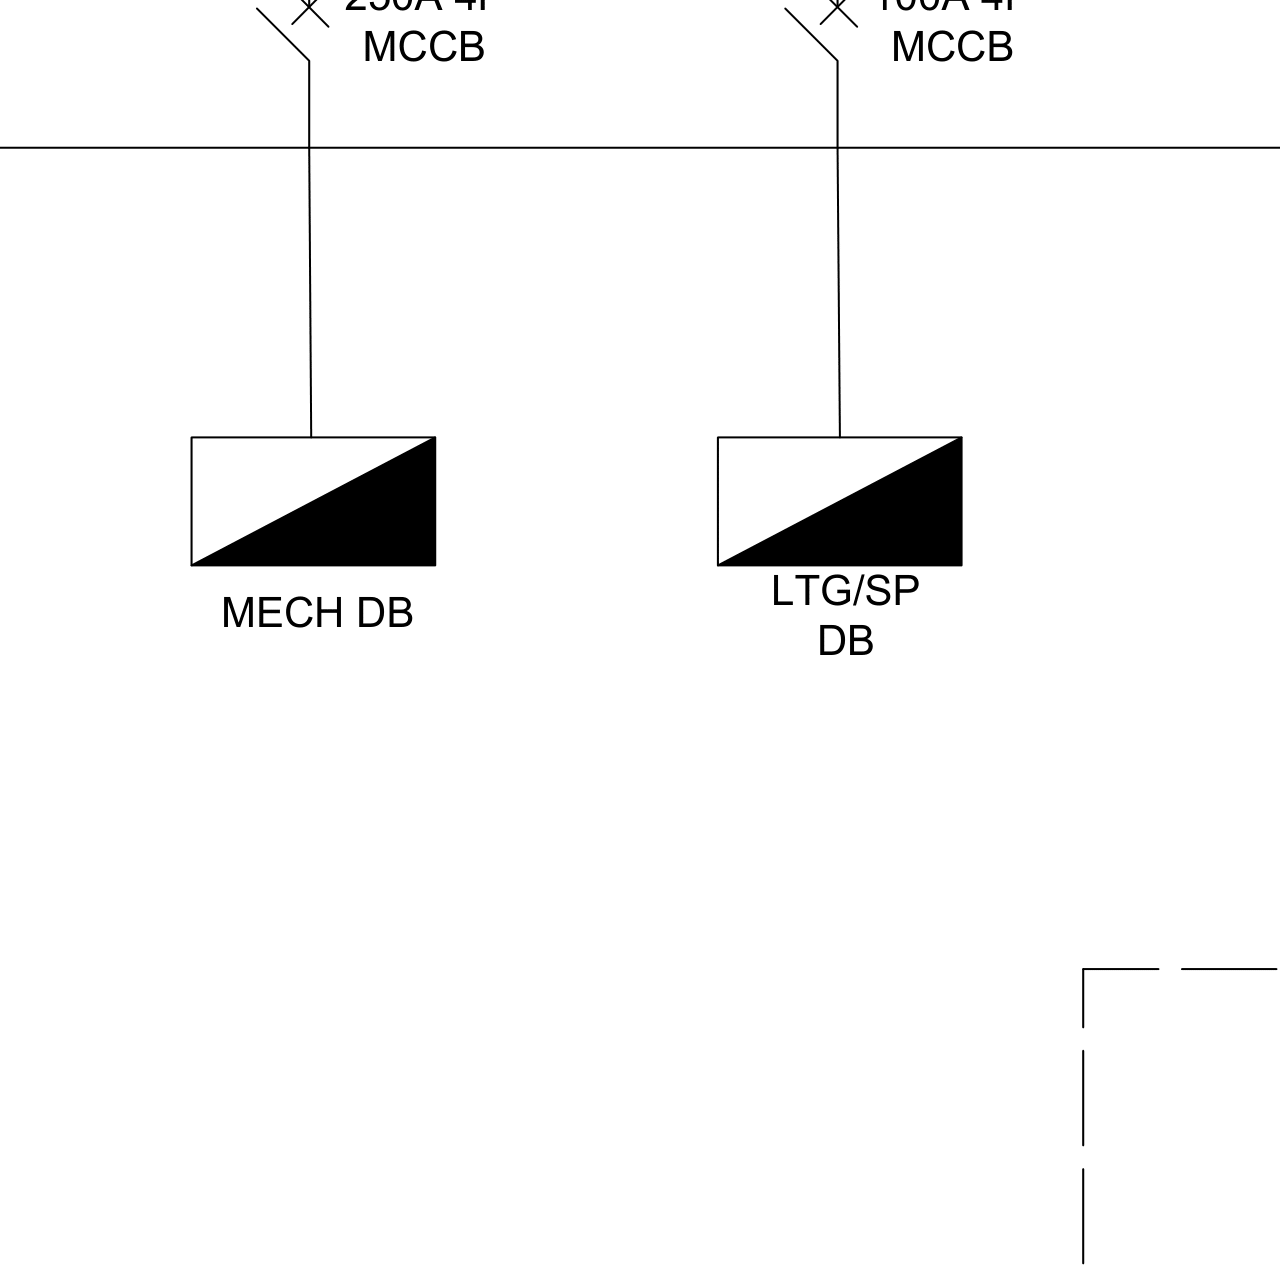Distribution Board: (175, 424, 450, 578), (700, 421, 975, 570)
